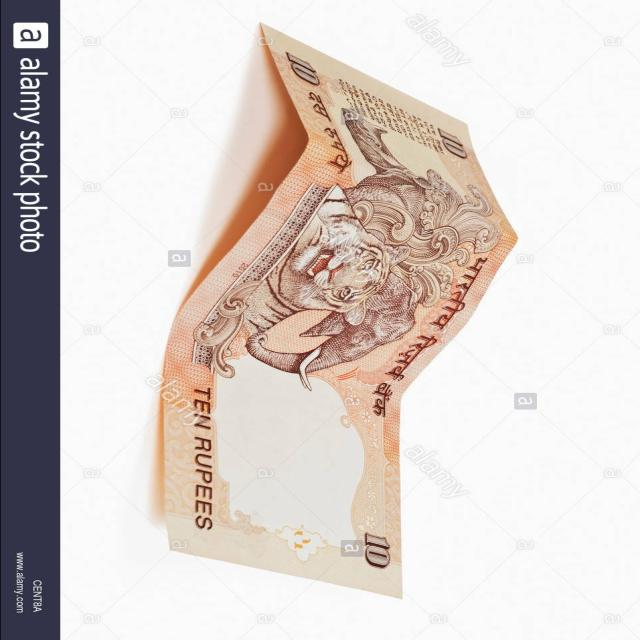10IndianRupees: (152, 26, 522, 600)
